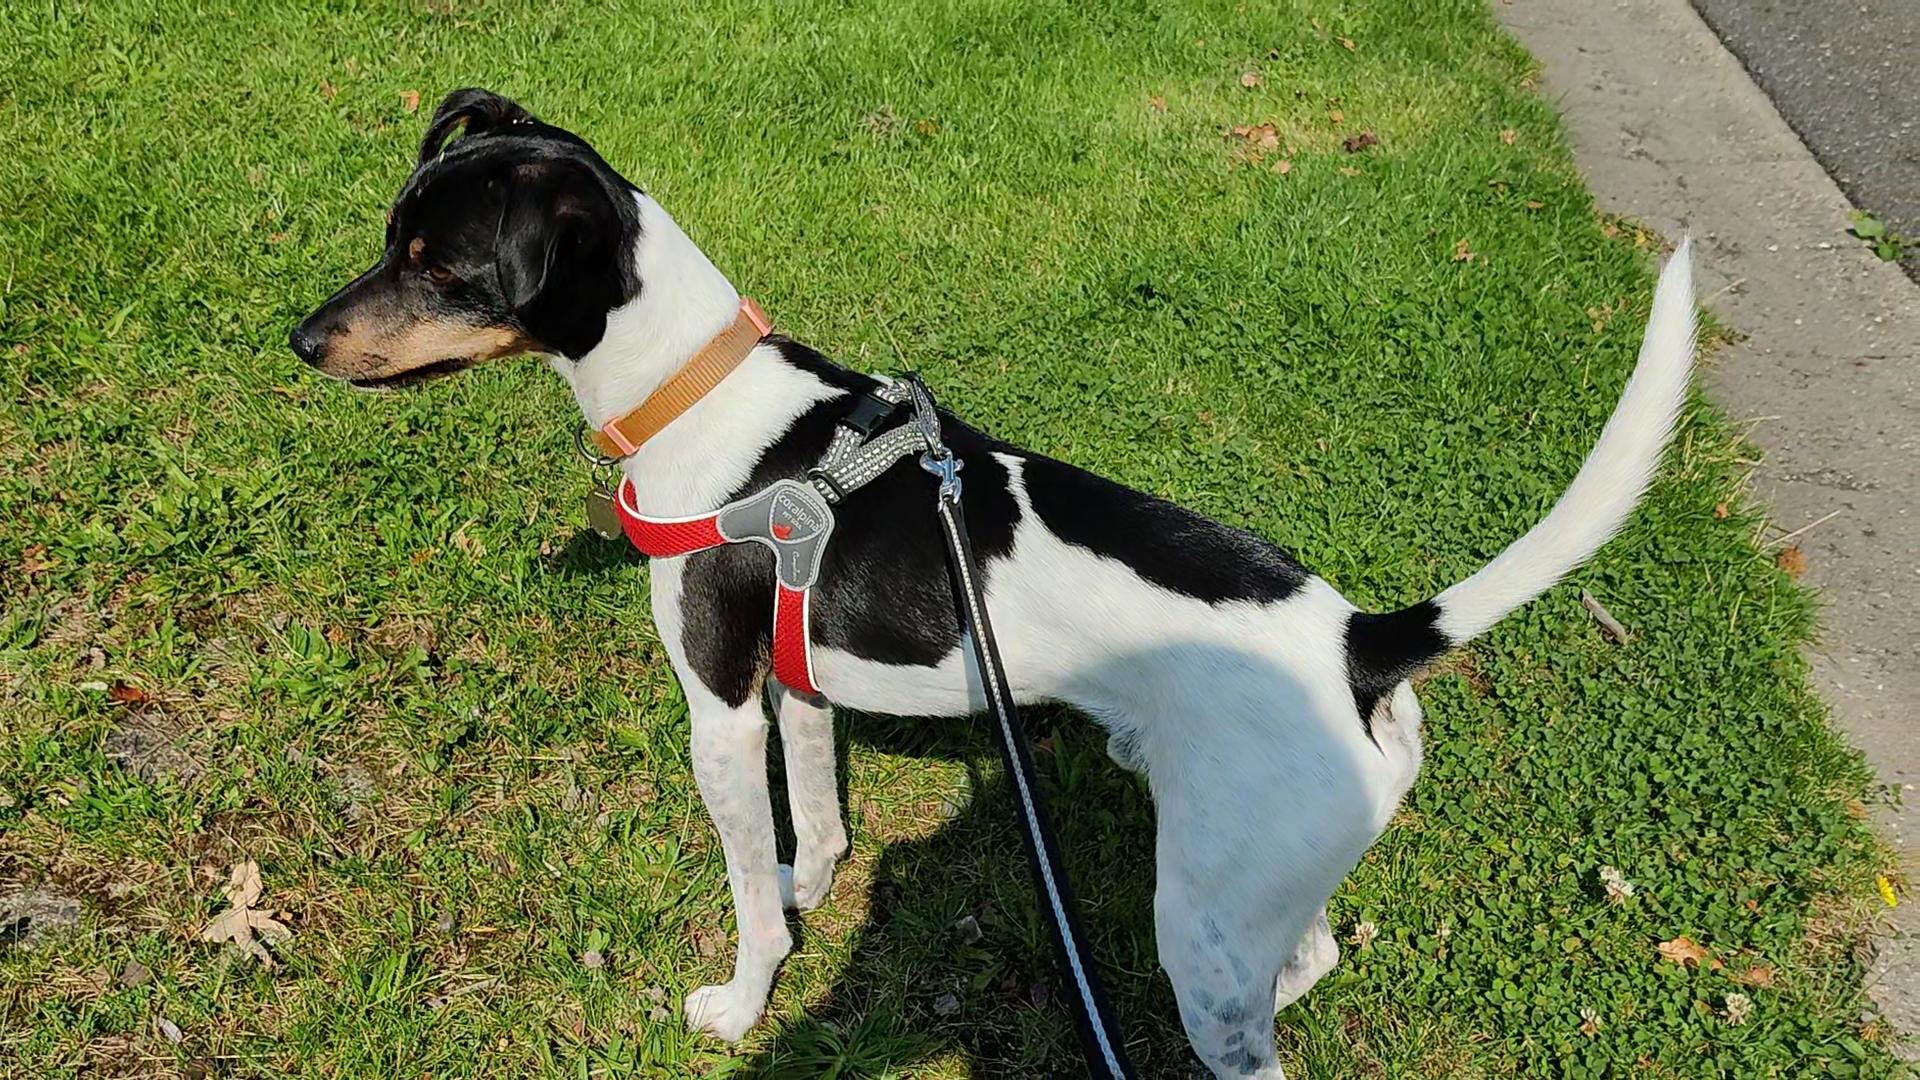Dog: (280, 76, 1709, 1079)
